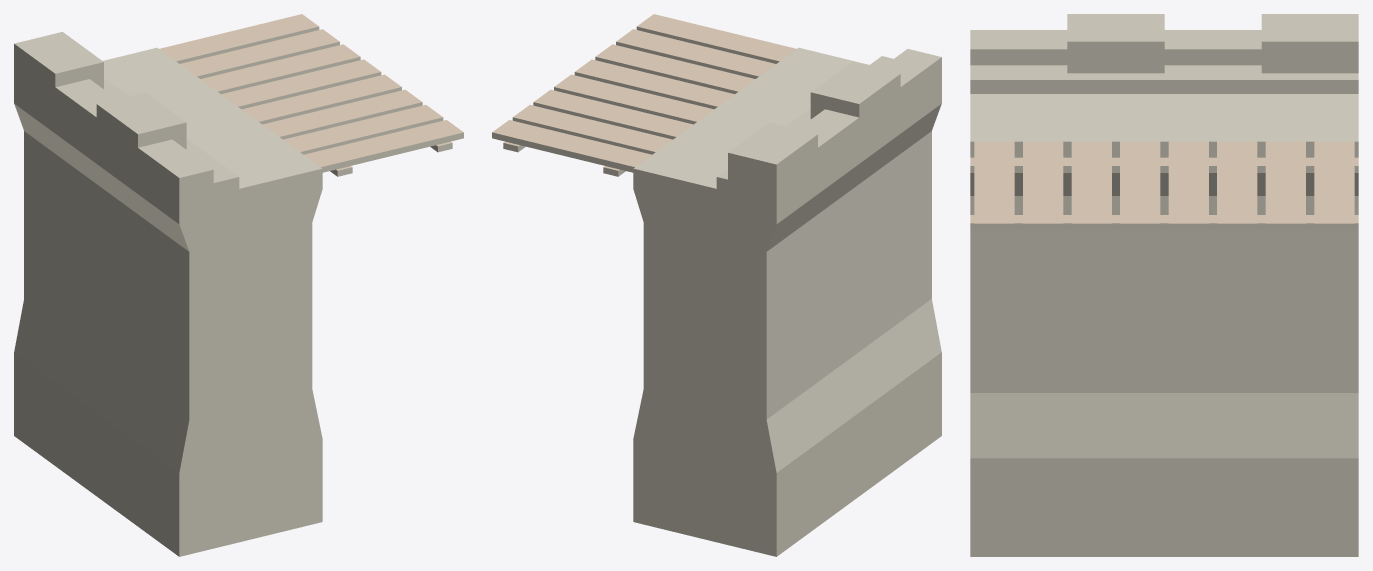
Rendered from wallNarrowWood.glb.
3 views of the same model, side by side, from view 1: azimuth 30°, elevation 25°; view 2: azimuth 150°, elevation 25°; view 3: azimuth 270°, elevation 25° (orthographic). The views are drawn at different scales.
Parts seen in each view (by area): view 1: wallNarrowWood, bridge 5; view 2: wallNarrowWood, bridge 5; view 3: wallNarrowWood, bridge 5.
Part boxes in pixels (box(x1,y1,x2,y2)): wallNarrowWood: box(14, 32, 322, 556); bridge 5: box(159, 14, 463, 176); wallNarrowWood: box(633, 47, 941, 556); bridge 5: box(492, 14, 796, 176); wallNarrowWood: box(970, 14, 1358, 556); bridge 5: box(970, 141, 1358, 230).
Bounding box in the file's own units: 10 × 13.1 × 10.
